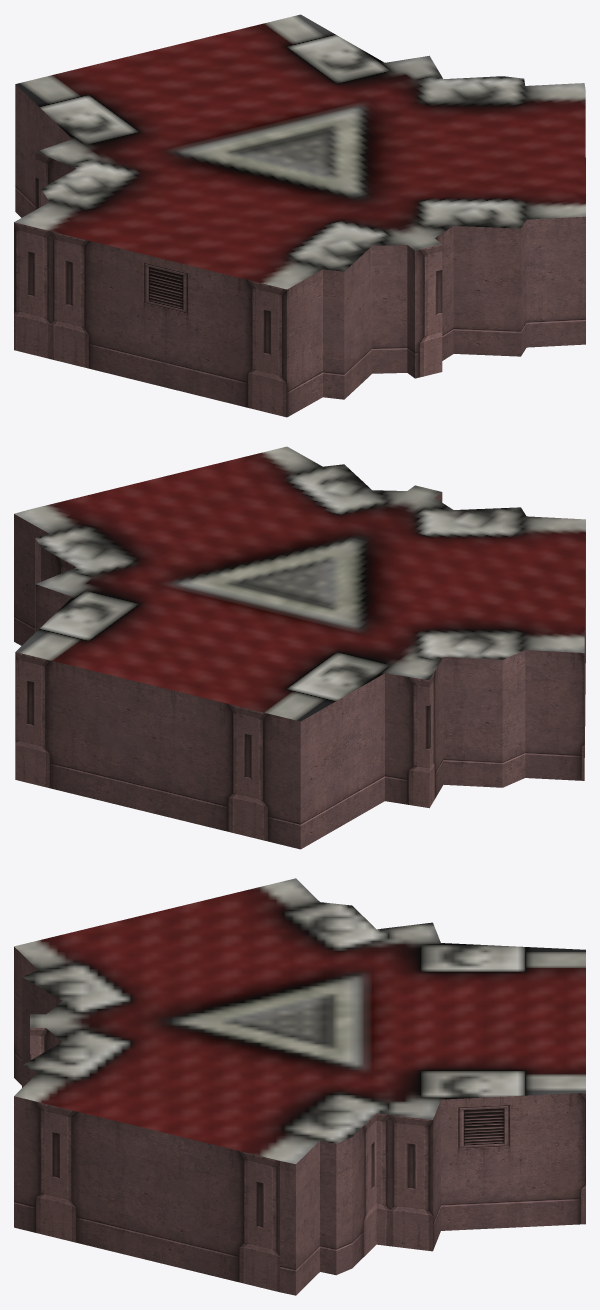
File: hardened_roof21.glb
The picture shows the model from 3 angles, top to bottom: view 1: azimuth 30°, elevation 25°; view 2: azimuth 150°, elevation 25°; view 3: azimuth 270°, elevation 25°; orthographic projection. The views are drawn at different scales.
Parts seen in each view (by area): view 1: buildings/saxarba/hard/hardened_roof21; view 2: buildings/saxarba/hard/hardened_roof21; view 3: buildings/saxarba/hard/hardened_roof21.
Boxes of the visible parts, box(x1,y1,x2,y2) form: buildings/saxarba/hard/hardened_roof21: box(14, 14, 585, 417); buildings/saxarba/hard/hardened_roof21: box(14, 446, 585, 849); buildings/saxarba/hard/hardened_roof21: box(14, 878, 585, 1295).
Bounding box in the file's own units: 84 × 18 × 71.
